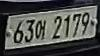1: (62, 13, 71, 38)
2: (52, 15, 62, 39)
3: (24, 18, 35, 42)
6: (13, 19, 24, 46)
7: (72, 13, 81, 38)
9: (81, 12, 90, 35)
어: (35, 19, 47, 40)
